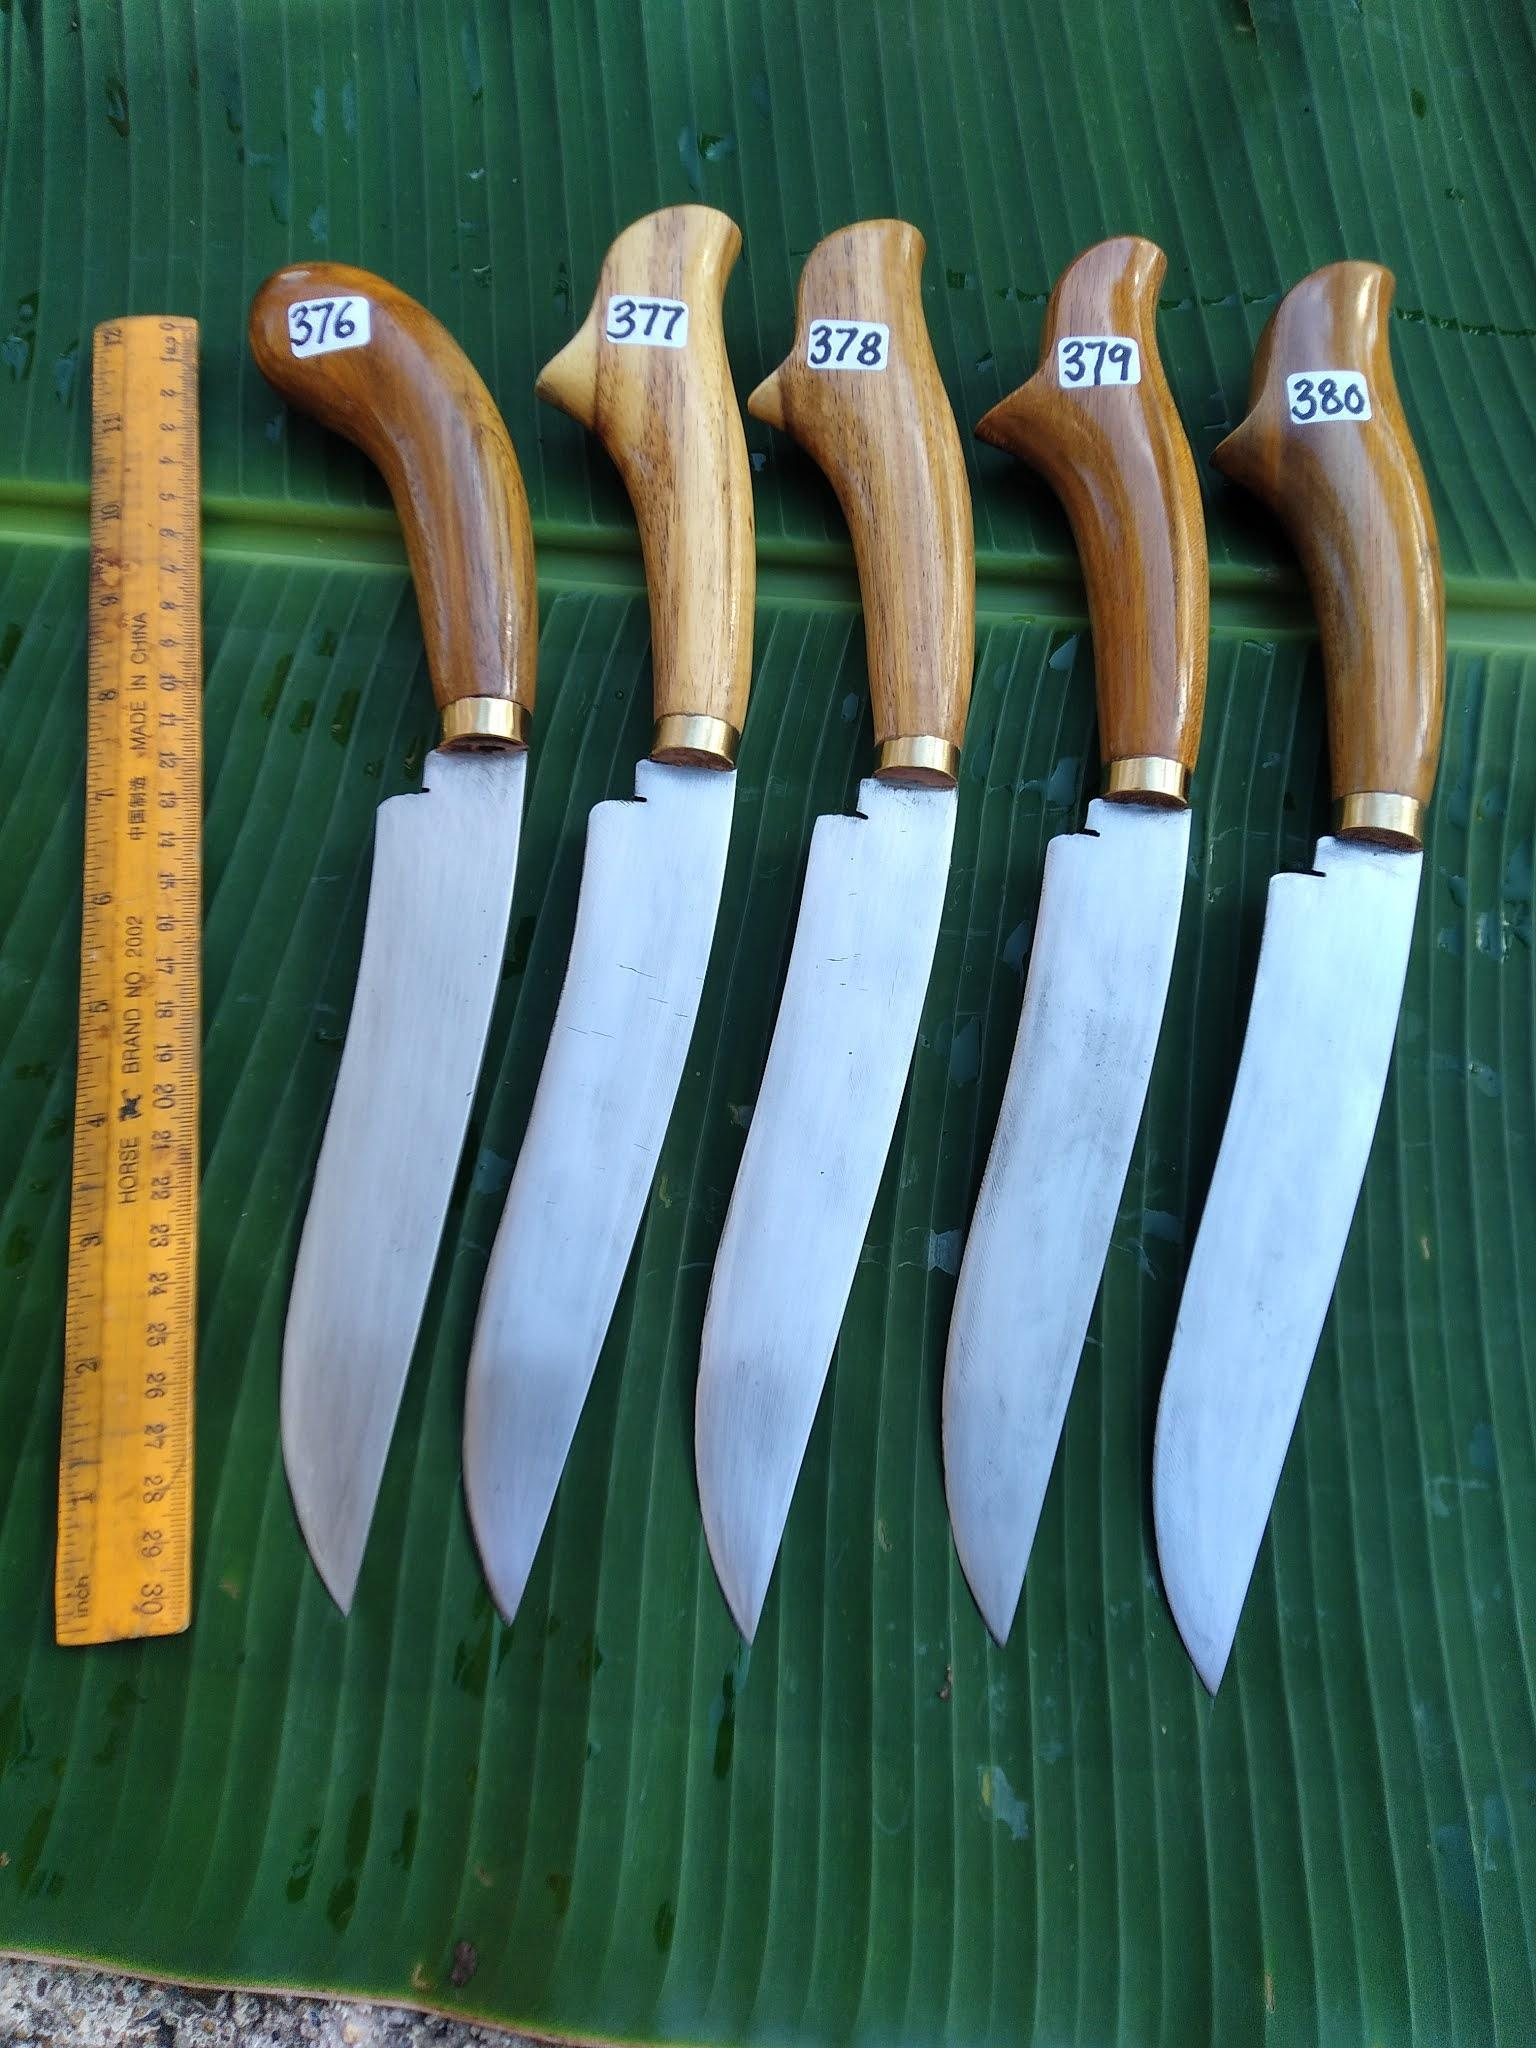facao: (1150, 240, 1460, 1717), (466, 206, 753, 1634), (237, 240, 537, 1590), (947, 237, 1220, 1690), (703, 226, 947, 1634)
